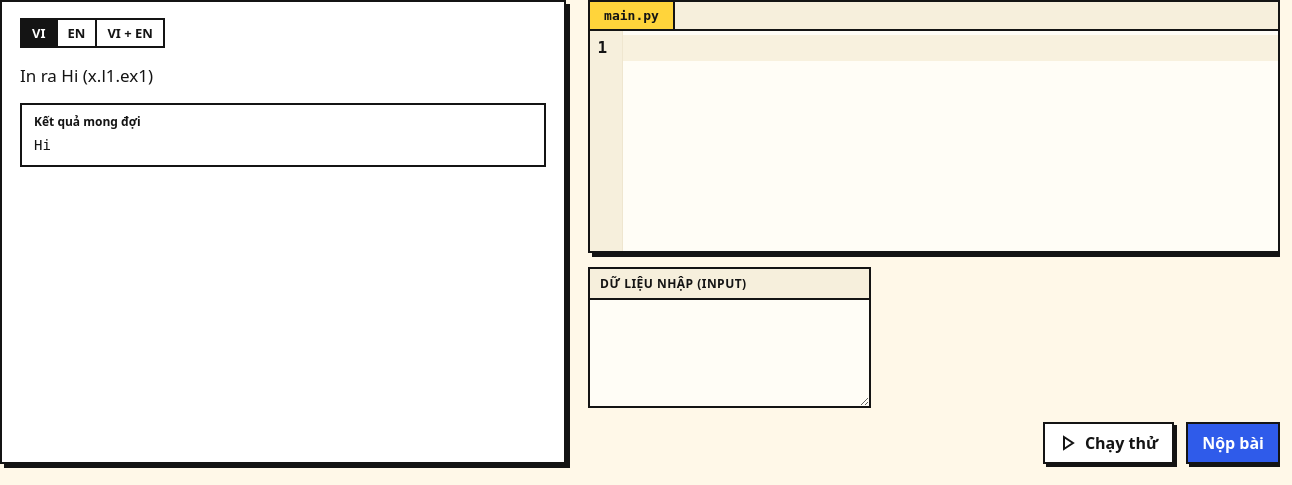
Test: ExamCodeView › a failed submit asks the child to submit again, not to reload
What coordinates should you click on to do the following:
click the button "Nộp bài"
I would click on:
 (1233, 443)
Its box is [1186,422,1280,464].
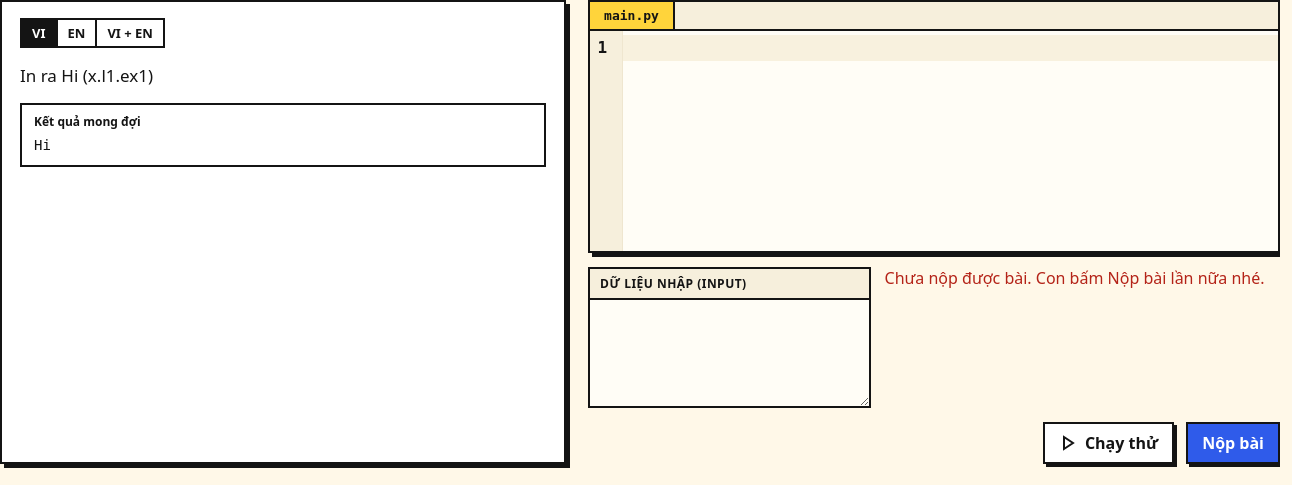
Result: the message reads "Chưa nộp được bài. Con bấm Nộp bài lần nữa nhé." at [884,267,1264,289]
